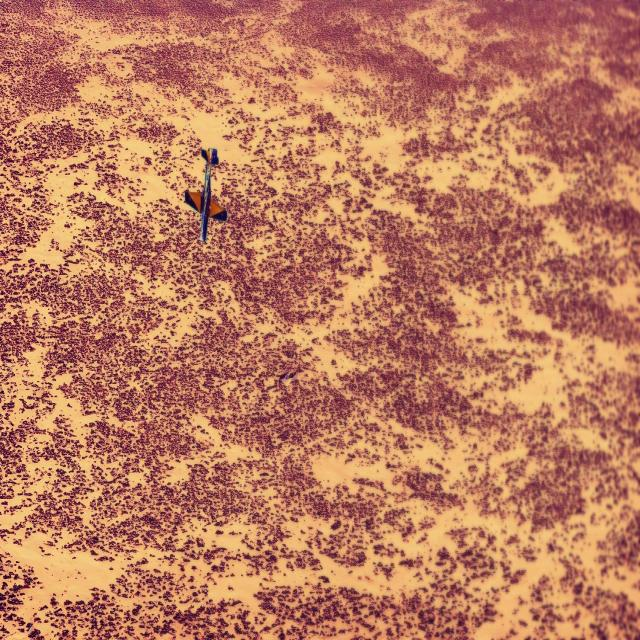airplane: (184, 146, 227, 245)
